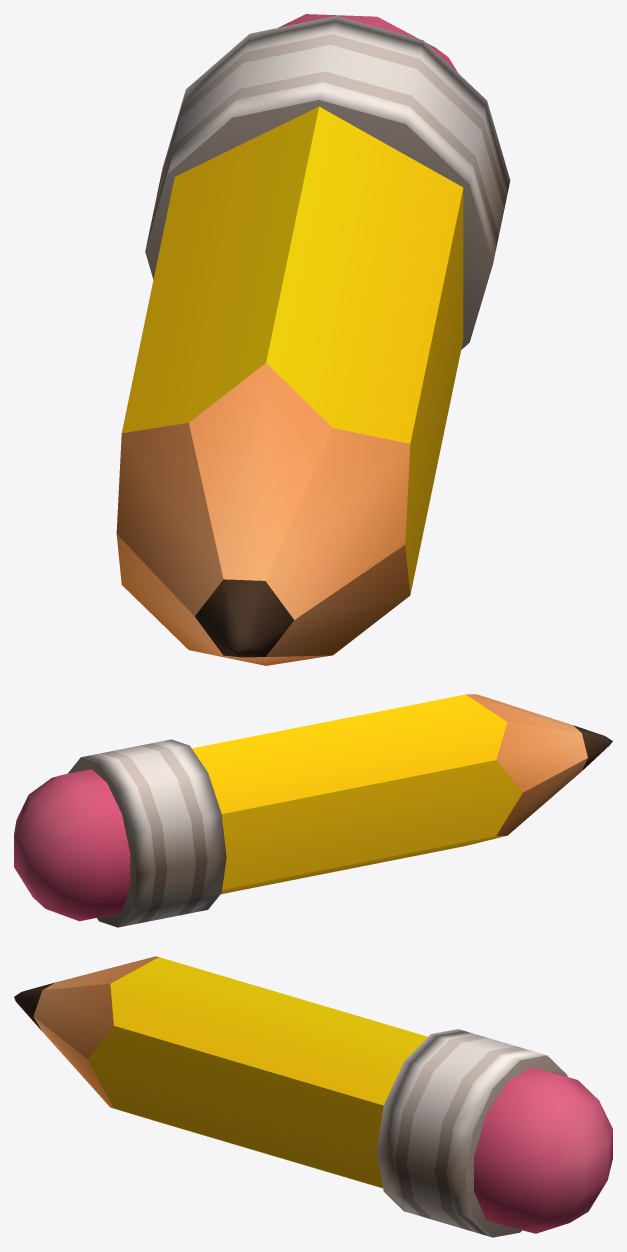
File: Pencil.fbx
3 views of the same model, one above another, from view 1: azimuth 30°, elevation 25°; view 2: azimuth 150°, elevation 25°; view 3: azimuth 270°, elevation 25° (orthographic). The views are drawn at different scales.
Parts seen in each view (by area): view 1: Pencil; view 2: Pencil; view 3: Pencil.
Boxes of the visible parts, bbox=[...] form: Pencil: bbox=[116, 14, 510, 665]; Pencil: bbox=[14, 694, 612, 927]; Pencil: bbox=[14, 956, 612, 1237].
Size of the model in its own units: 2151 by 917 by 2887.
Materials: 1 (1 with a texture image).
